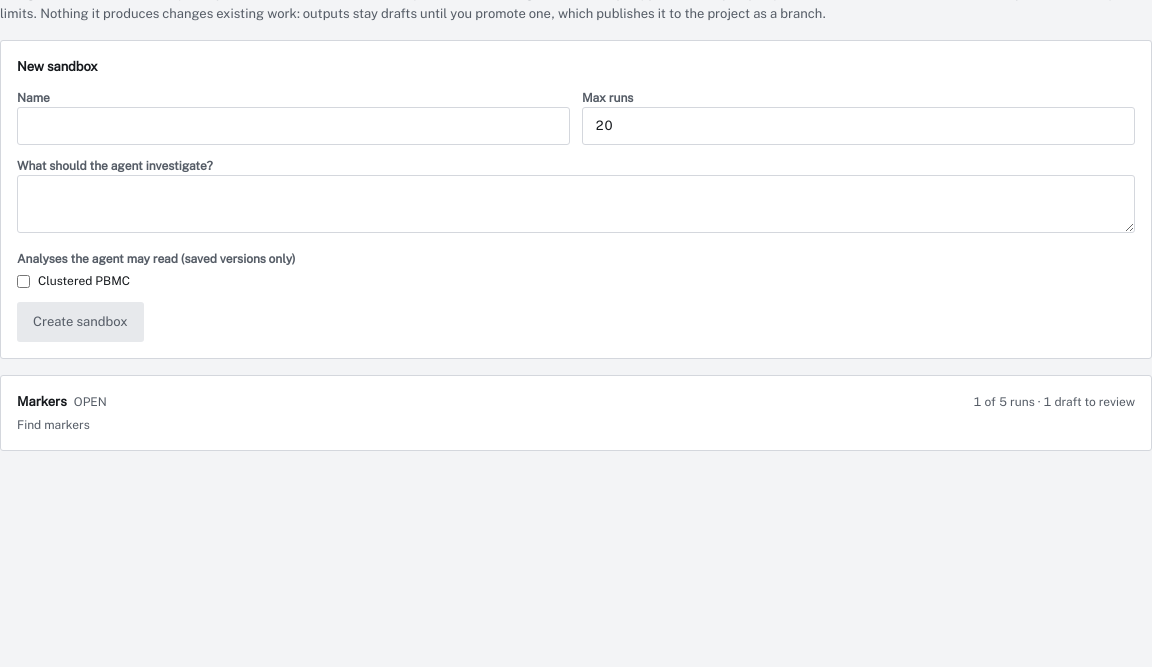
it: AgentSandboxes › saves a run as a notebook in a chosen analysis
Step 1. Click the button "Markers open" → click(62, 402), box [17,392,107,412]
(page scrolled)
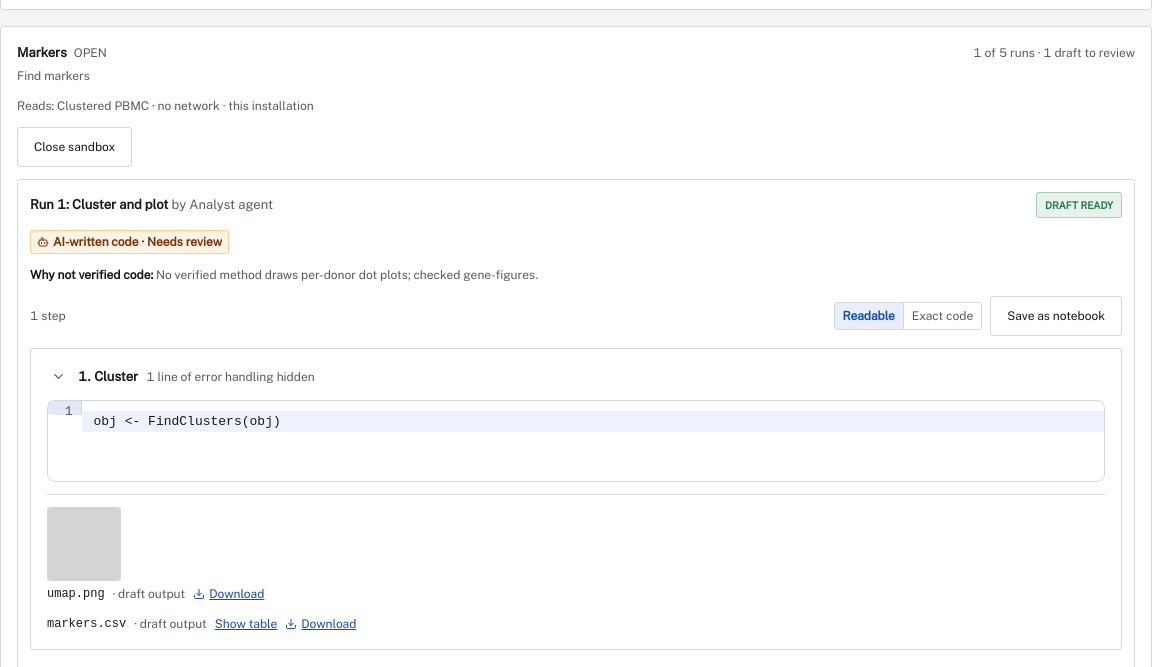
Step 2. Click the button "Save as notebook" → click(1056, 316), box [990,296,1122,336]
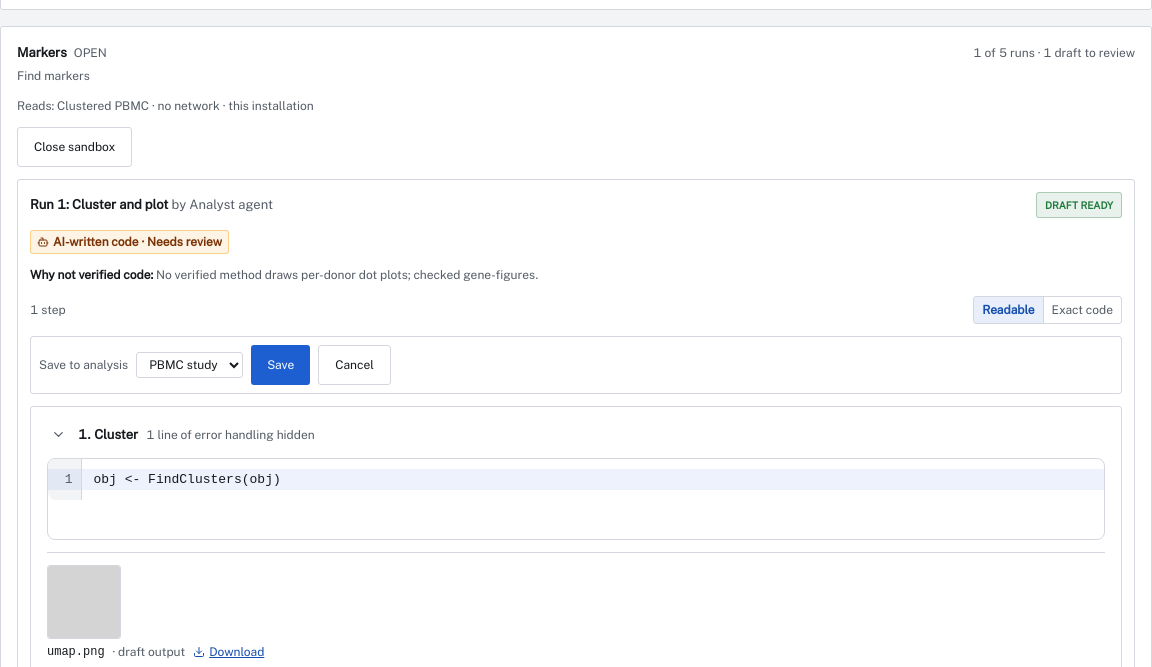
Check: the dropdown labelled "Save to analysis" shows "PBMC study", box [136,352,243,378]
Step 3. Click the button "Save" → click(281, 365), box [251,345,310,385]
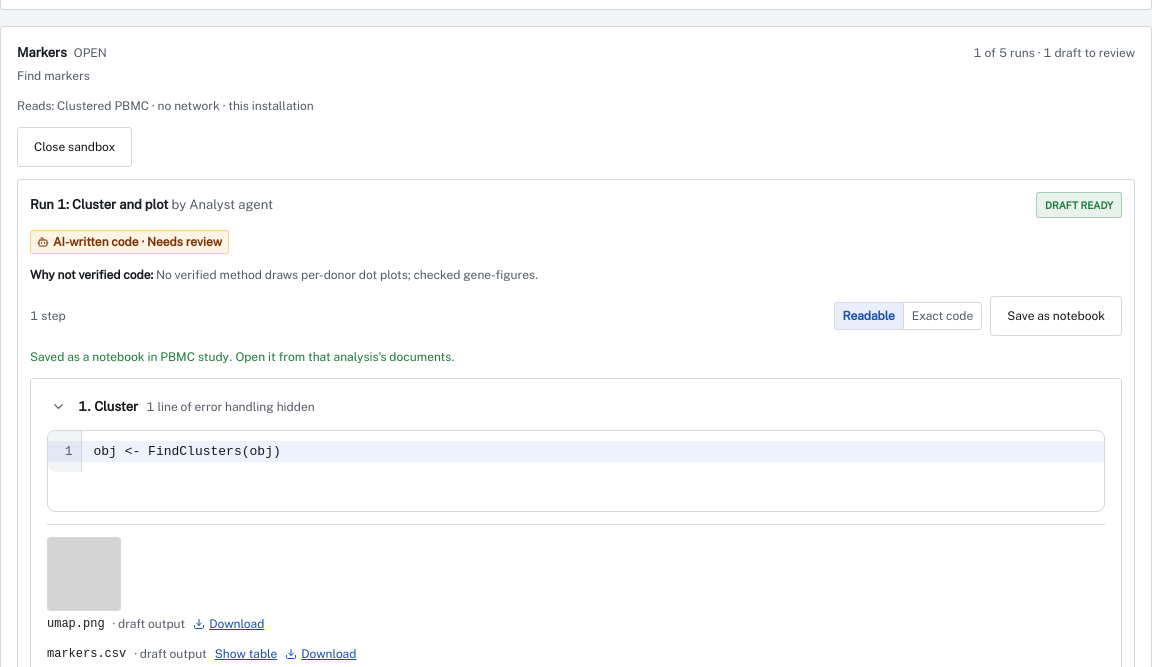
Check: the text "Saved as a notebook in PBMC study. Open it from that analysis's documents." is shown, box [30,350,455,364]
